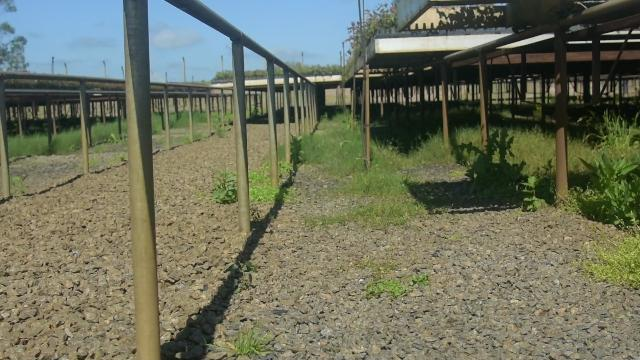MalezaMontesDelPlata: (573, 153, 640, 230), (453, 142, 529, 200), (574, 233, 640, 288), (350, 258, 434, 300), (200, 321, 271, 357), (337, 167, 415, 199), (360, 199, 423, 230), (209, 161, 238, 204), (247, 180, 295, 205)
